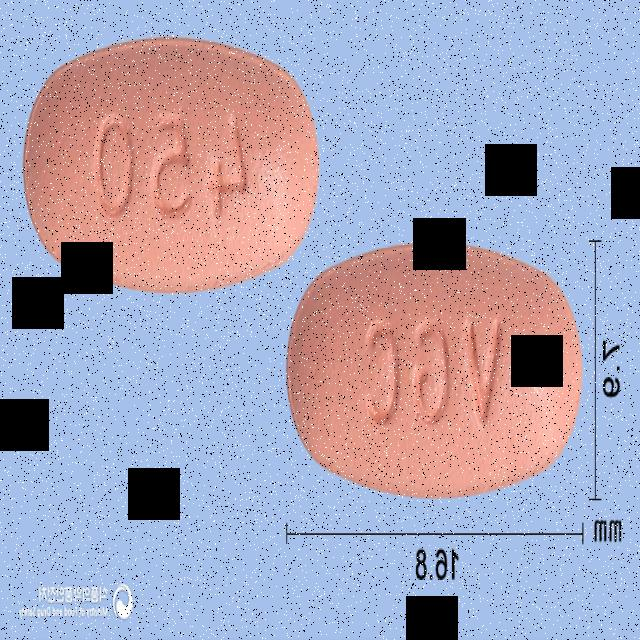Valcyte Tab: (286, 239, 584, 500), (21, 33, 319, 294)
